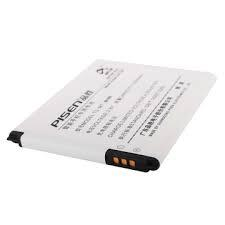battery: (1, 51, 223, 182)
